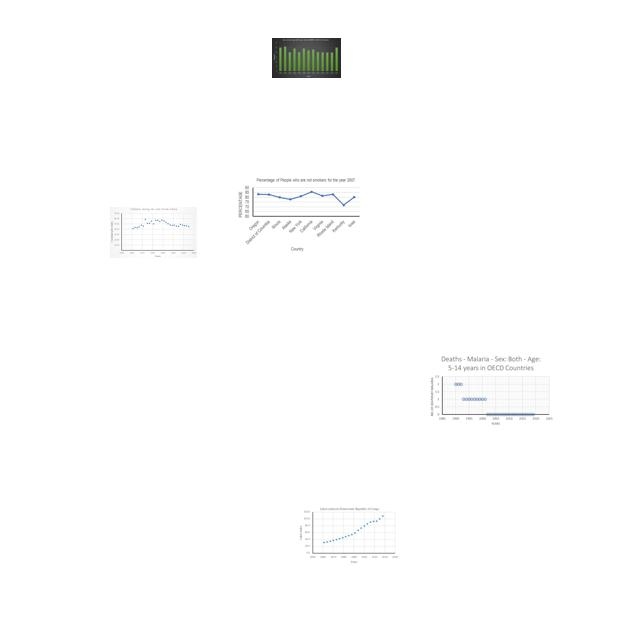Graph: (235, 176, 363, 253), (428, 353, 554, 427), (299, 506, 399, 564), (110, 207, 197, 258), (272, 38, 341, 78)
